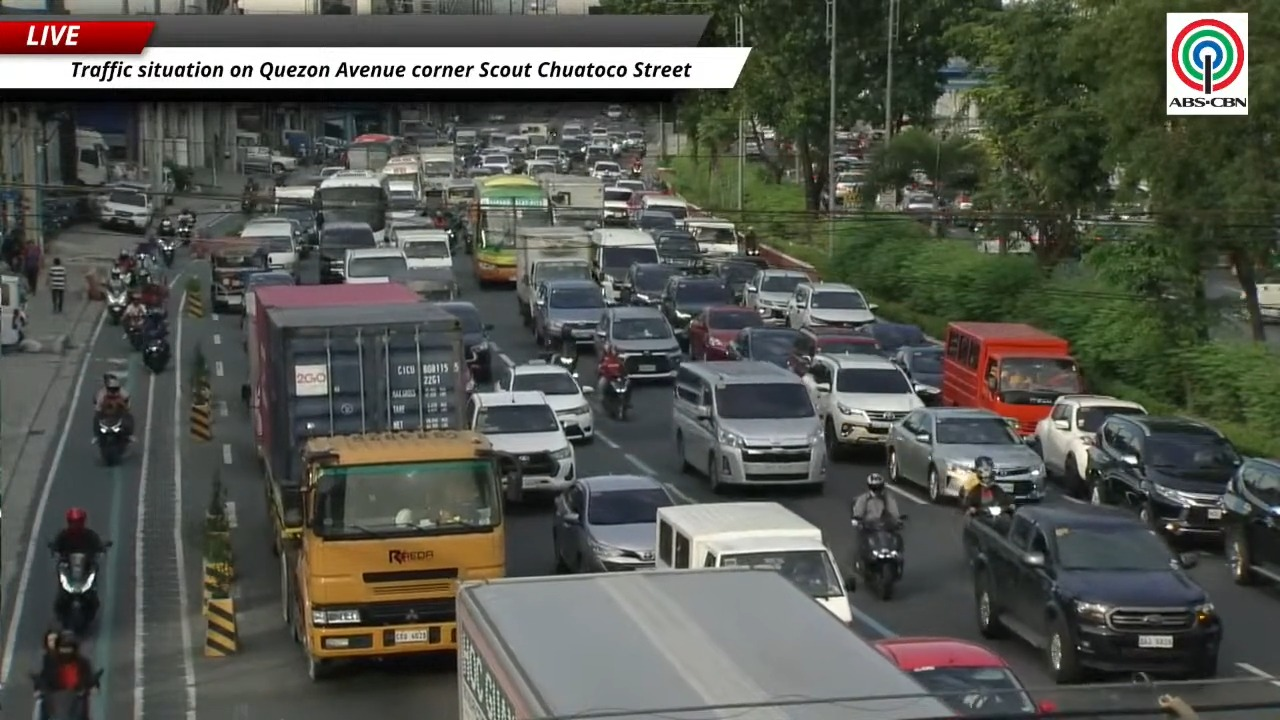bus: (471, 175, 552, 284), (316, 170, 388, 243), (342, 133, 407, 171)
car: (962, 503, 1222, 683), (1088, 414, 1241, 537), (886, 407, 1045, 502), (874, 637, 1056, 717), (801, 354, 923, 458), (552, 475, 675, 572), (1032, 394, 1146, 496), (465, 391, 575, 492), (498, 360, 593, 441), (1222, 459, 1279, 584), (594, 306, 682, 378), (531, 280, 606, 347), (659, 275, 732, 343), (438, 301, 493, 382), (788, 327, 884, 373), (786, 282, 876, 328), (688, 305, 763, 360), (742, 268, 808, 321), (729, 327, 798, 368), (623, 263, 685, 305), (706, 256, 760, 303), (892, 345, 944, 393), (858, 320, 927, 353), (343, 248, 408, 283), (654, 229, 701, 268), (602, 186, 632, 226), (634, 210, 678, 232), (900, 192, 938, 213), (584, 140, 613, 166), (479, 152, 514, 173), (589, 160, 620, 181), (623, 130, 646, 153), (525, 160, 557, 176), (614, 178, 645, 192), (319, 166, 346, 178), (604, 105, 624, 119)
motorcycle: (852, 520, 904, 600), (54, 553, 99, 636), (31, 670, 102, 719), (95, 415, 129, 466), (601, 375, 630, 421), (142, 337, 170, 373), (106, 287, 127, 325), (465, 350, 483, 392), (124, 316, 142, 350), (176, 216, 195, 245), (549, 353, 577, 372), (157, 237, 175, 266), (157, 218, 175, 237), (241, 195, 254, 213)
truck: (251, 283, 521, 680), (457, 569, 955, 719), (247, 283, 421, 537), (245, 283, 420, 475), (516, 228, 591, 324), (206, 237, 267, 311), (537, 173, 603, 226), (418, 146, 456, 190)
